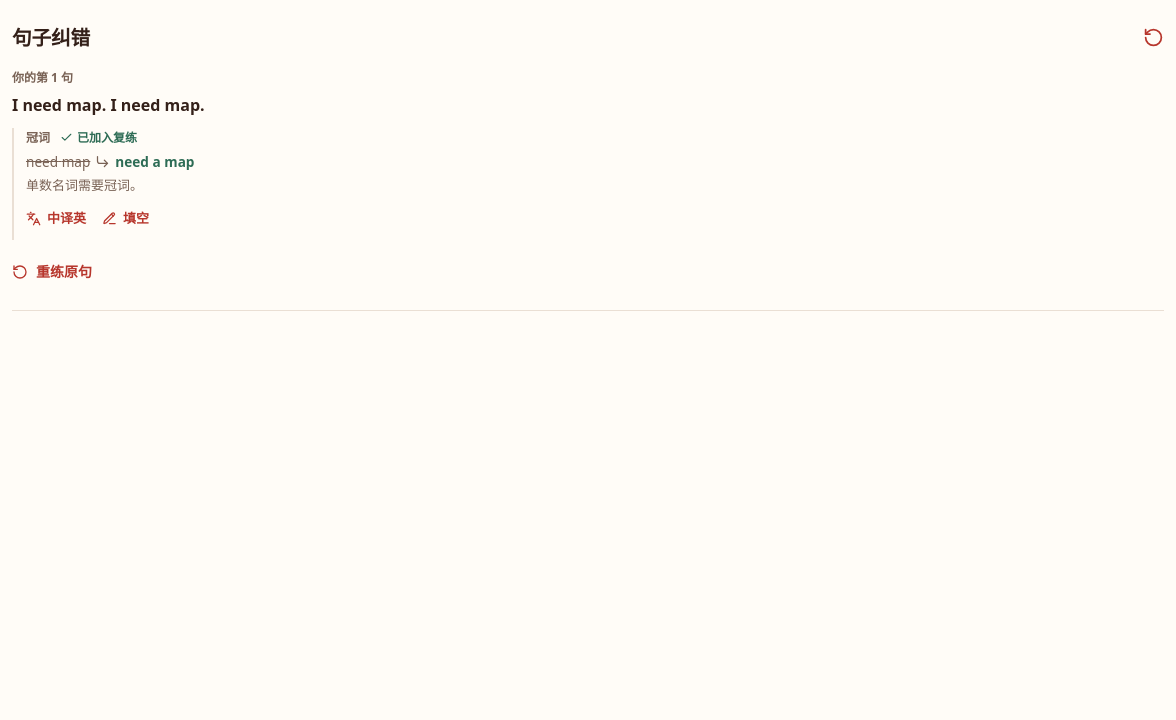
uses a whole sentence on both translation requests when the saved quote repeats in equivalent sentences
Click the button "中译英" at (56, 218), box [26,196,86,240]
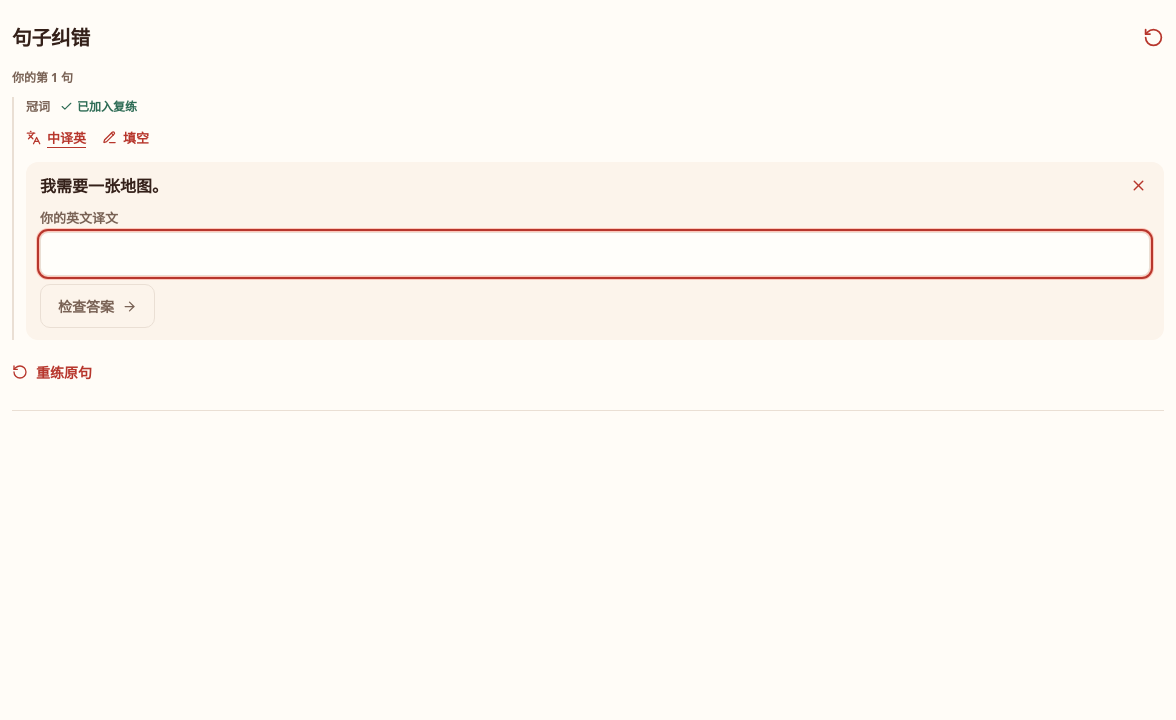
Now the text "我需要一张地图。" is shown, box [40,175,168,197]
Type "I need a map." into the field at (595, 254), box [40,232,1150,276]
Then press Enter
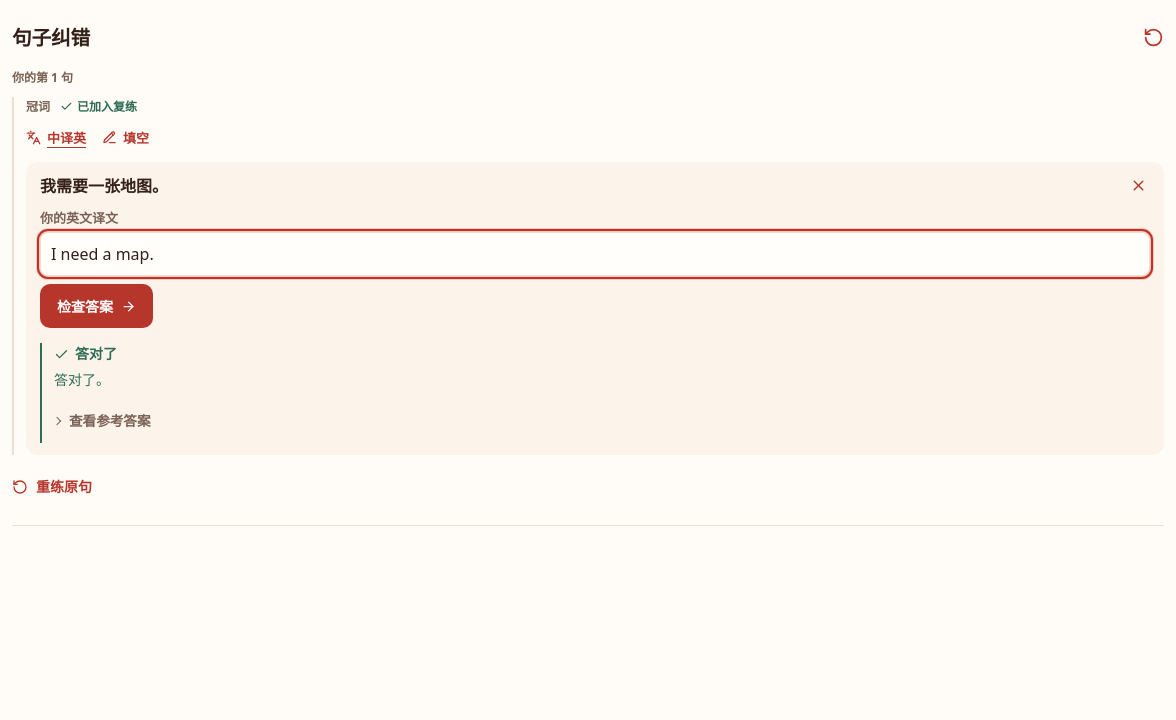
Now the text "我需要一张地图。" is shown, box [40,175,168,197]
Click the heading "查看参考答案" at (102, 421), box [54,399,151,443]
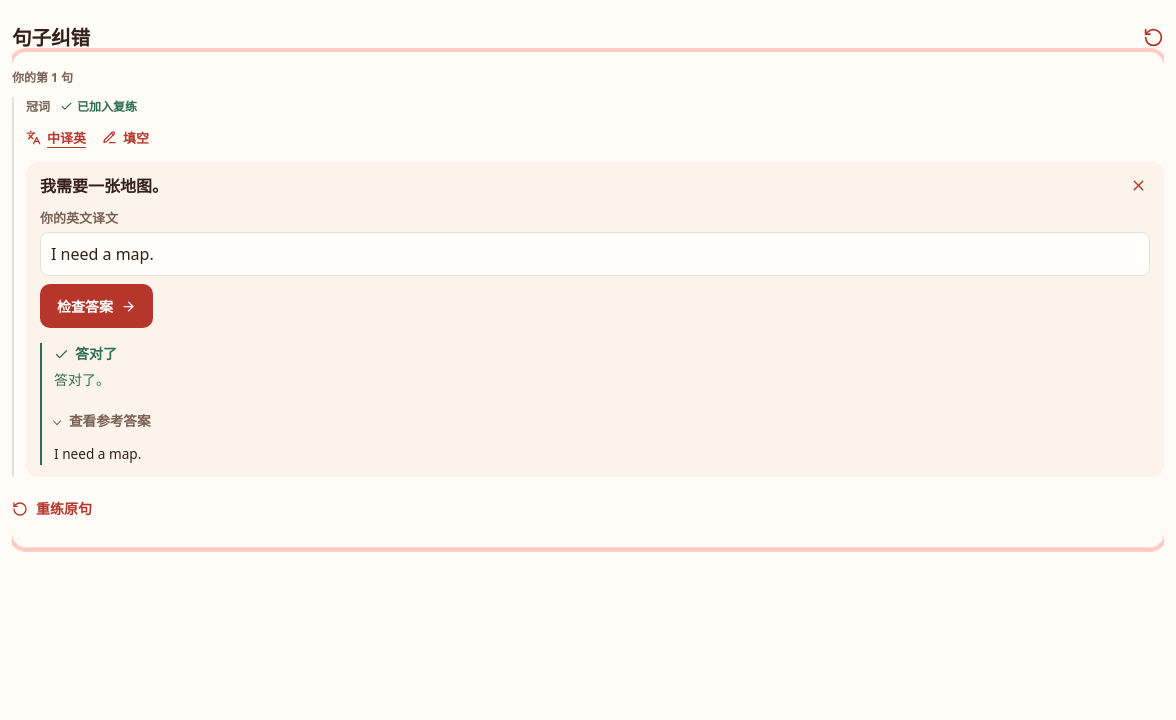
Now the text "I need a map." is shown, box [54,444,141,463]
